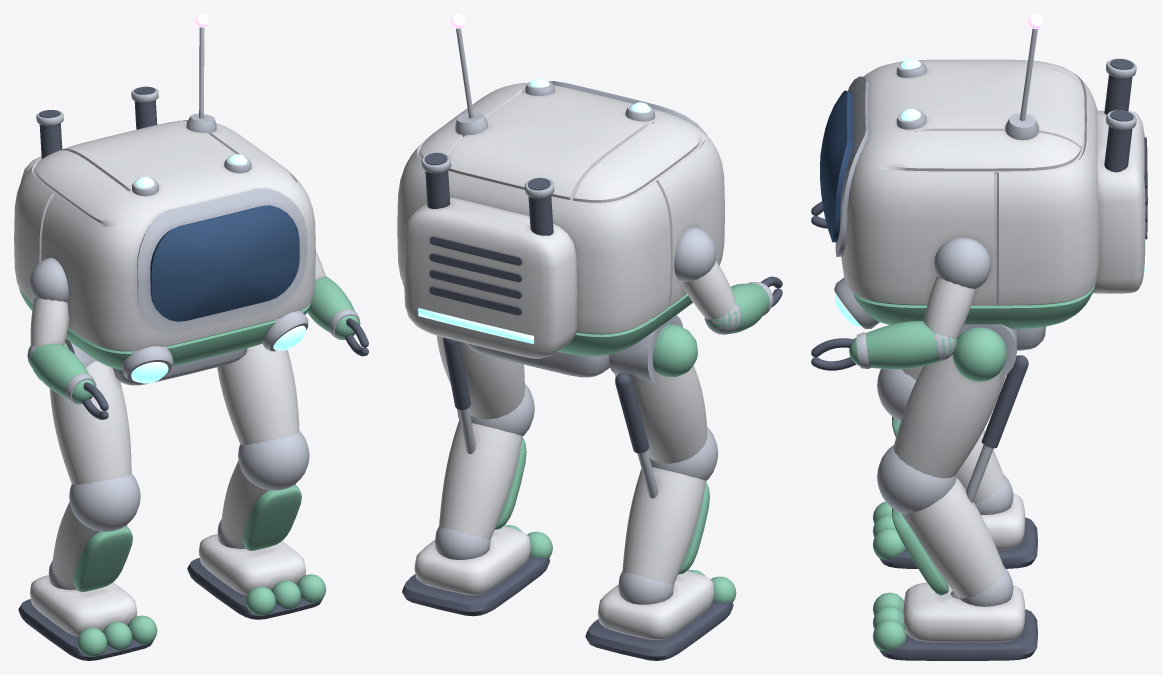
Rendered from mech-walker.glb.
3 views of the same model, side by side, from view 1: azimuth 30°, elevation 25°; view 2: azimuth 150°, elevation 25°; view 3: azimuth 270°, elevation 25° (orthographic). The views are drawn at different scales.
Visible parts, largest first — view 1: mech-walker_body, mech-walker_lights_glow; view 2: mech-walker_body, mech-walker_pack_light_glow; view 3: mech-walker_body, mech-walker_lights_glow.
Boxes of the visible parts, x1,y1,x2,y2 form: mech-walker_body: (14,27,368,660); mech-walker_lights_glow: (131,154,305,383); mech-walker_body: (397,28,782,660); mech-walker_pack_light_glow: (418,308,534,343); mech-walker_body: (811,28,1147,660); mech-walker_lights_glow: (835,58,920,326).
Bounding box in the file's own units: 2.3 × 4.02 × 1.99.
Materials: 4 (1 with a texture image).
